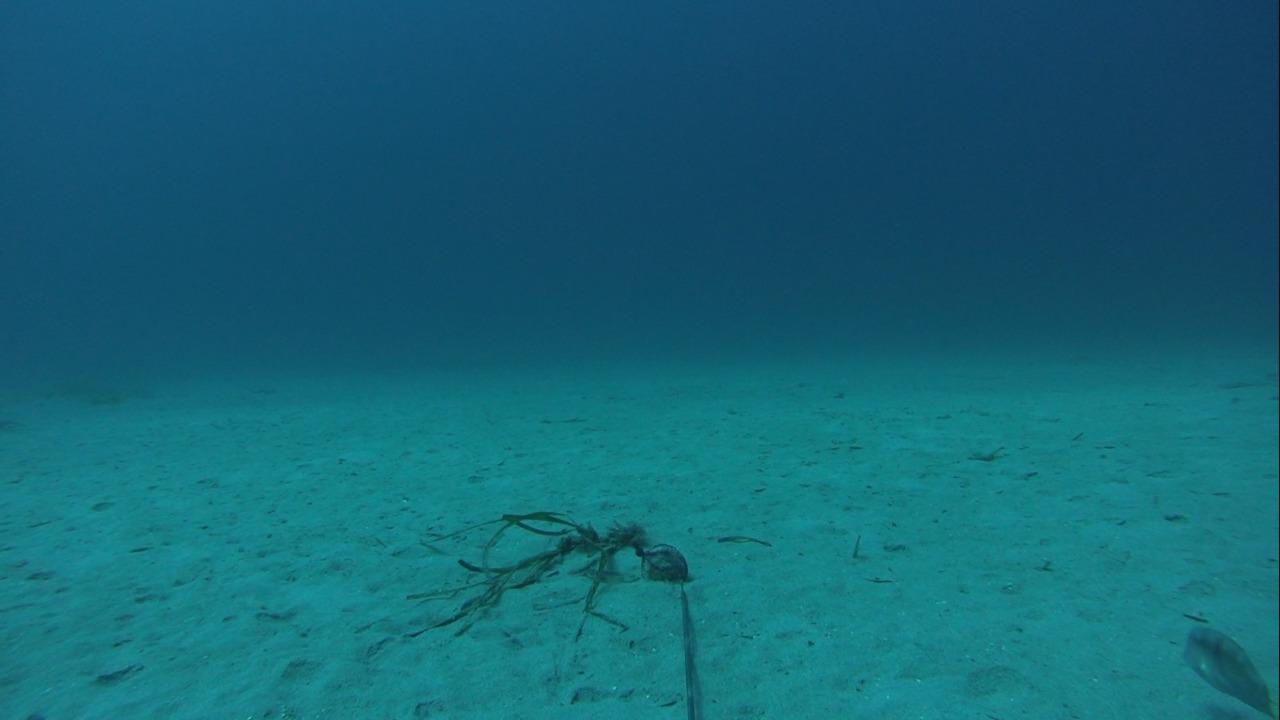raor: (1176, 621, 1275, 715)
